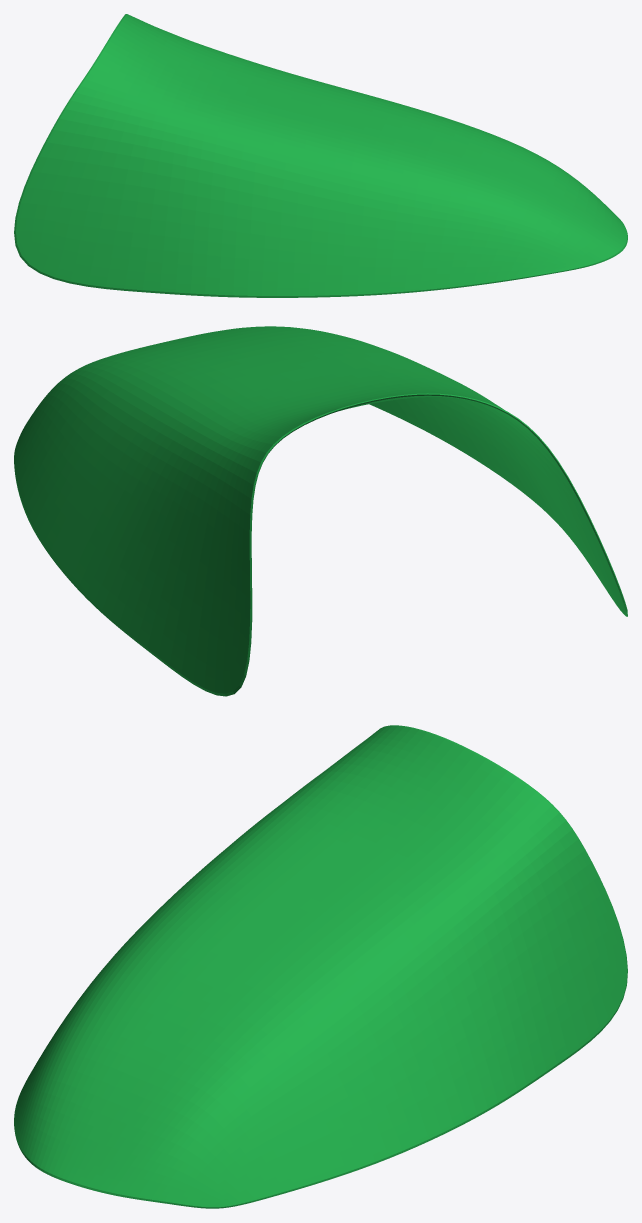
File: frontRightGREEN.obj
The picture shows the model from 3 angles, top to bottom: view 1: azimuth 30°, elevation 25°; view 2: azimuth 150°, elevation 25°; view 3: azimuth 270°, elevation 25°; orthographic projection. The views are drawn at different scales.
Parts seen in each view (by area): view 1: Plane; view 2: Plane; view 3: Plane.
Boxes of the visible parts, x1,y1,x2,y2 form: Plane: (14,14,627,297); Plane: (14,326,627,696); Plane: (14,725,627,1208).
Bounding box in the file's own units: 14.77 × 5.41 × 12.28.
1 material, 1 textured.
